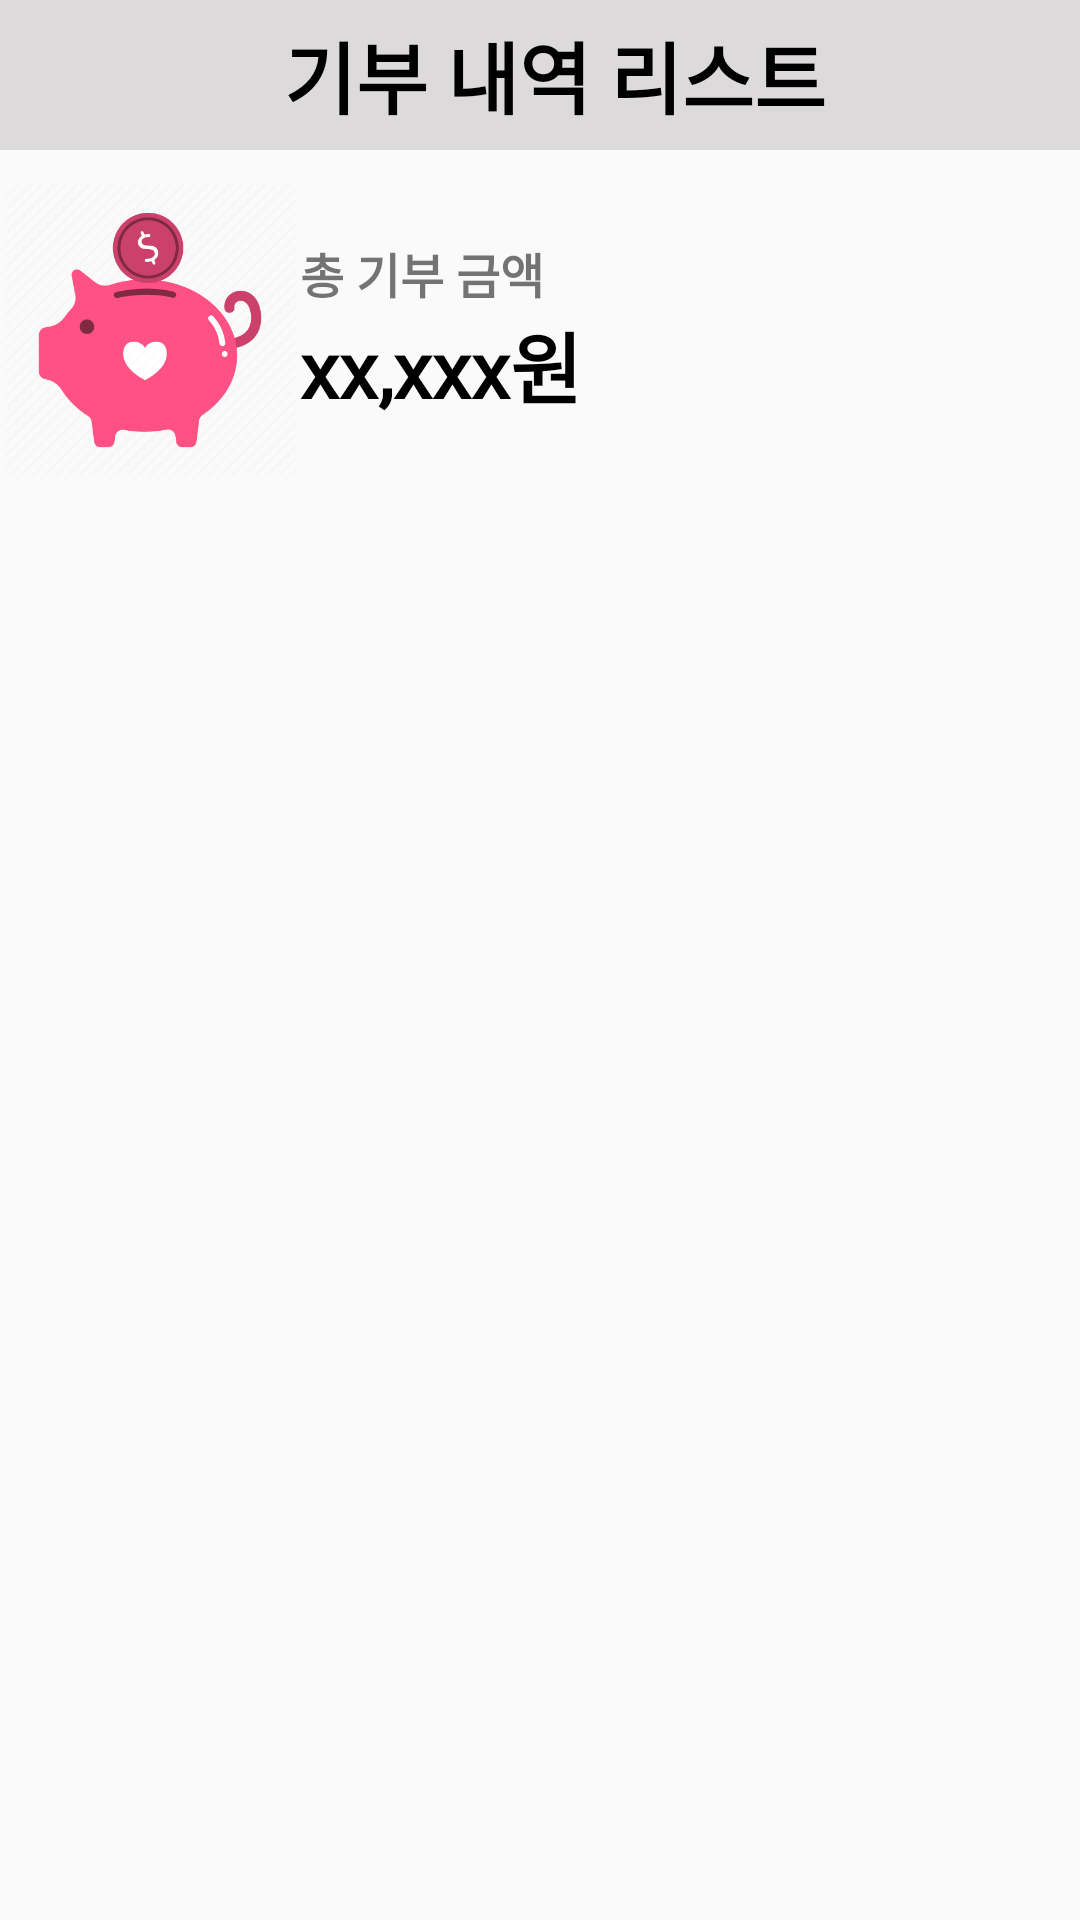

Named icons in this screenshot (1080px x 1920px) and their bounding boxes, bbox(x1, y1, x2, y2):
donation piggy: bbox(38, 213, 262, 448)
